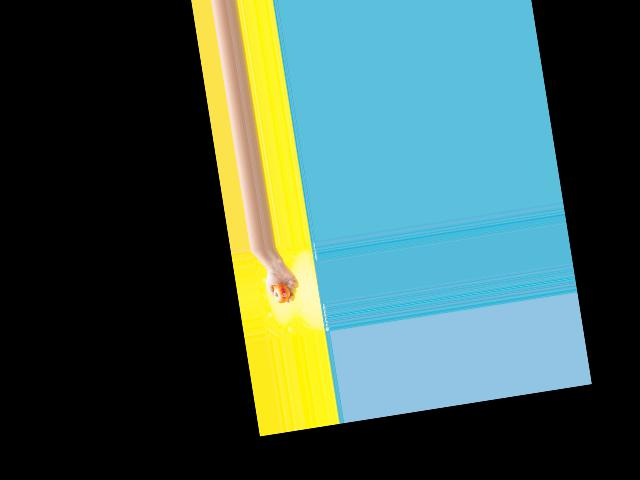tomato: (272, 282, 291, 303)
